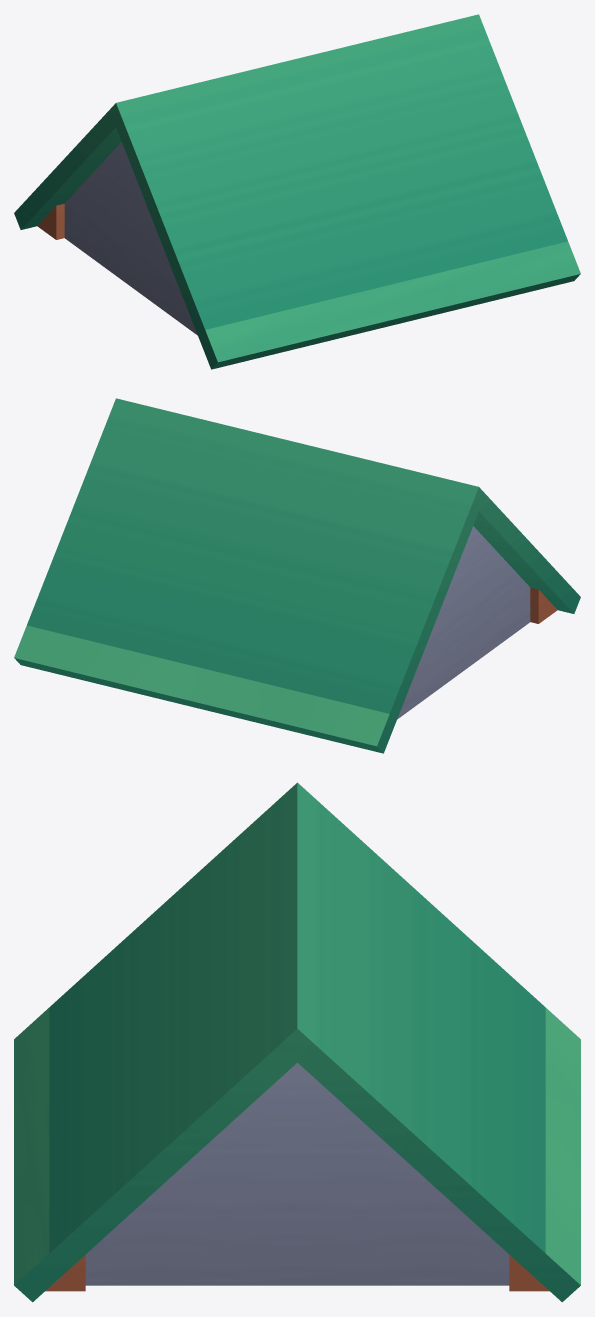
Rendered from roofGable.fbx.
3 views of the same model, one above another, from view 1: azimuth 30°, elevation 25°; view 2: azimuth 150°, elevation 25°; view 3: azimuth 270°, elevation 25° (orthographic). The views are drawn at different scales.
Visible parts, largest first — view 1: roofGable; view 2: roofGable; view 3: roofGable.
Part boxes in pixels (box(x1,y1,x2,y2)): roofGable: box(14, 14, 580, 369); roofGable: box(14, 398, 580, 753); roofGable: box(14, 782, 580, 1302).
Size of the model in its own units: 1.1 by 1.07 by 0.5707.
